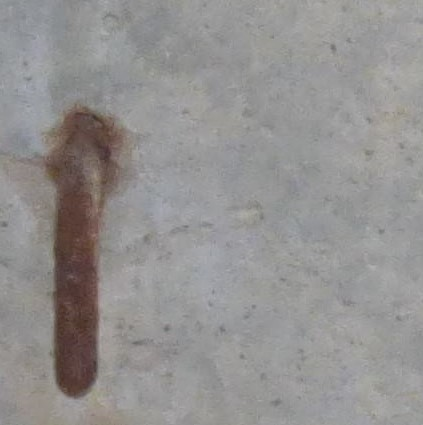Exposed reinforcement: (54, 134, 105, 400)
